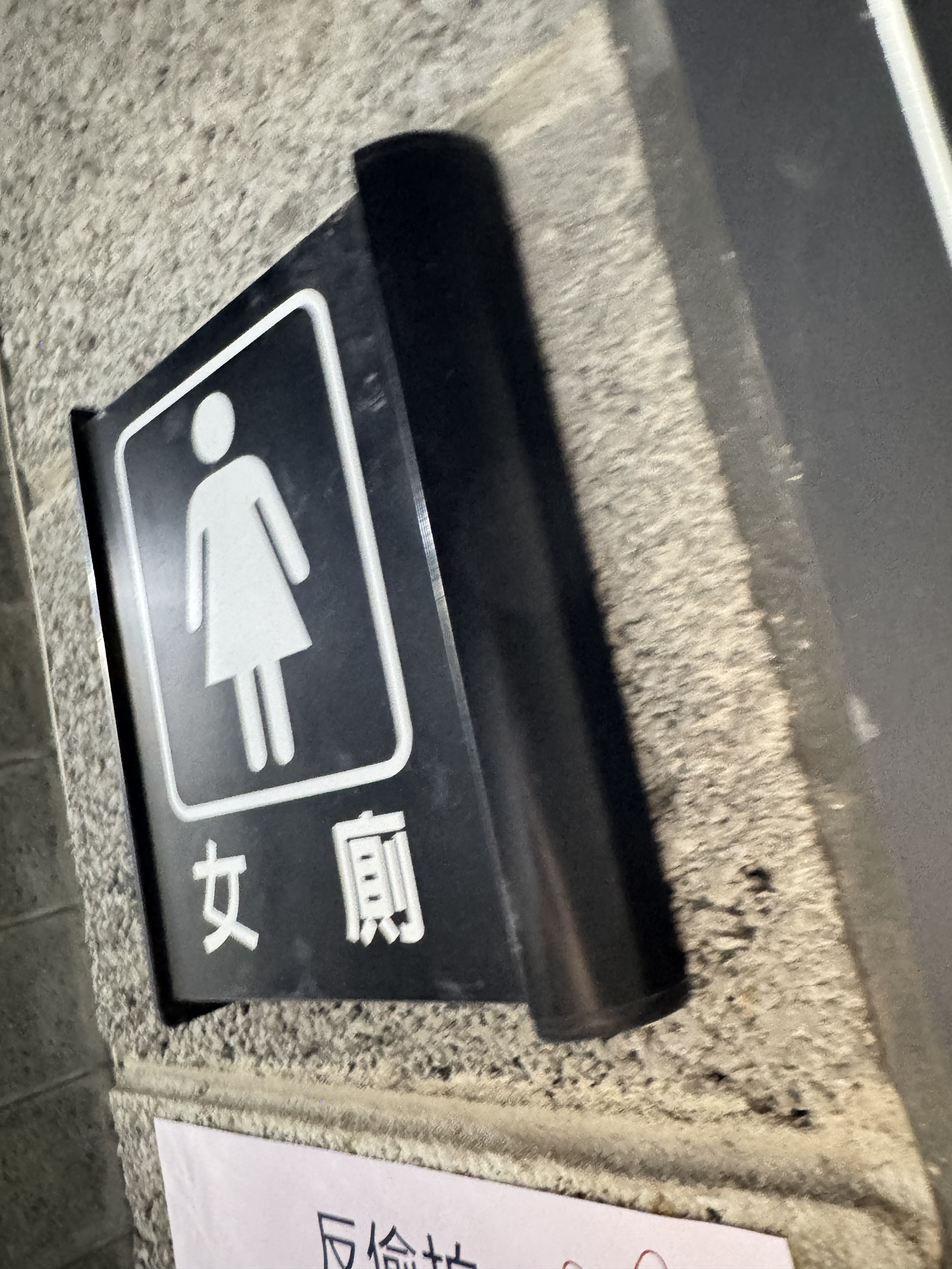toilet_sign: (28, 155, 720, 1043), (60, 133, 724, 1043)
